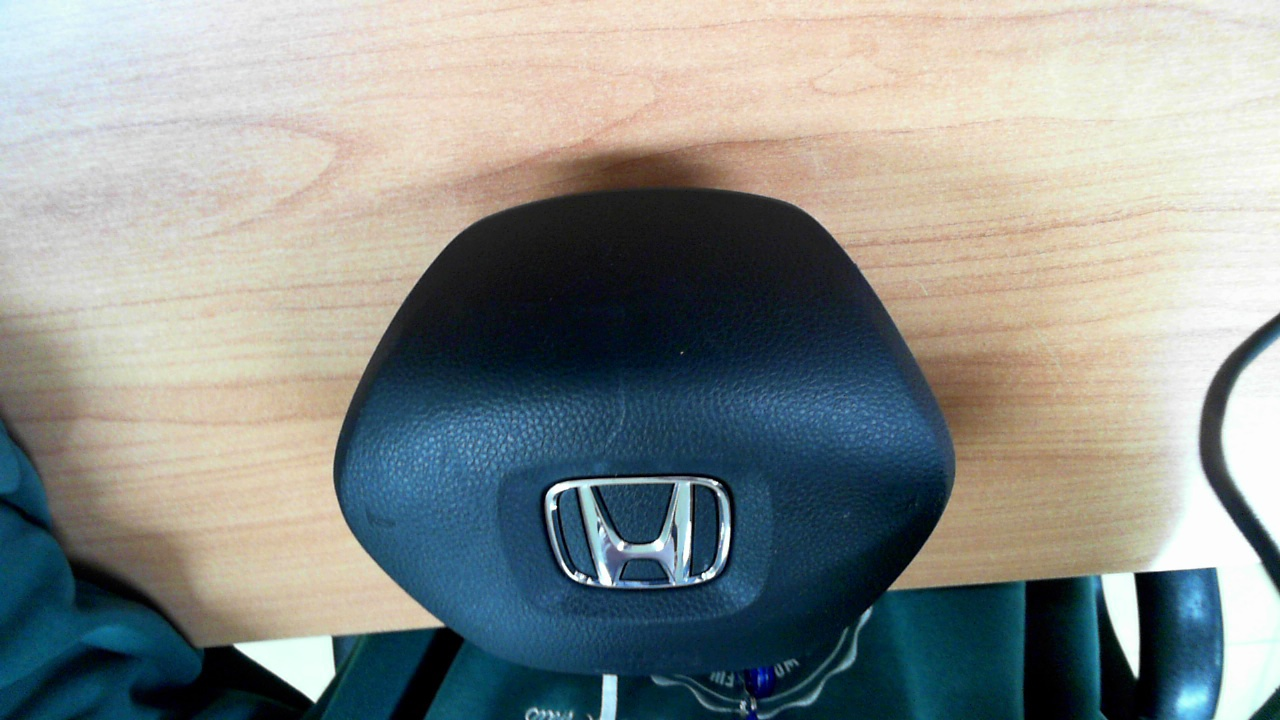Airbag: (333, 185, 957, 674)
Honda: (544, 475, 732, 590)
